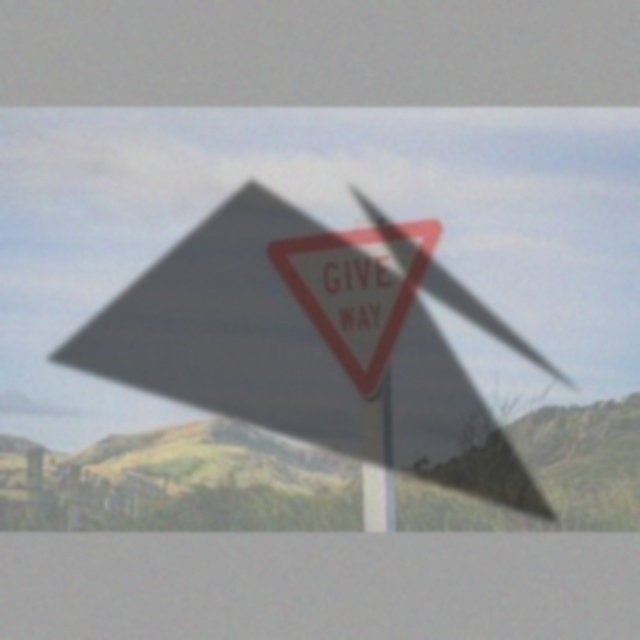Give_Way: (268, 224, 447, 393)
